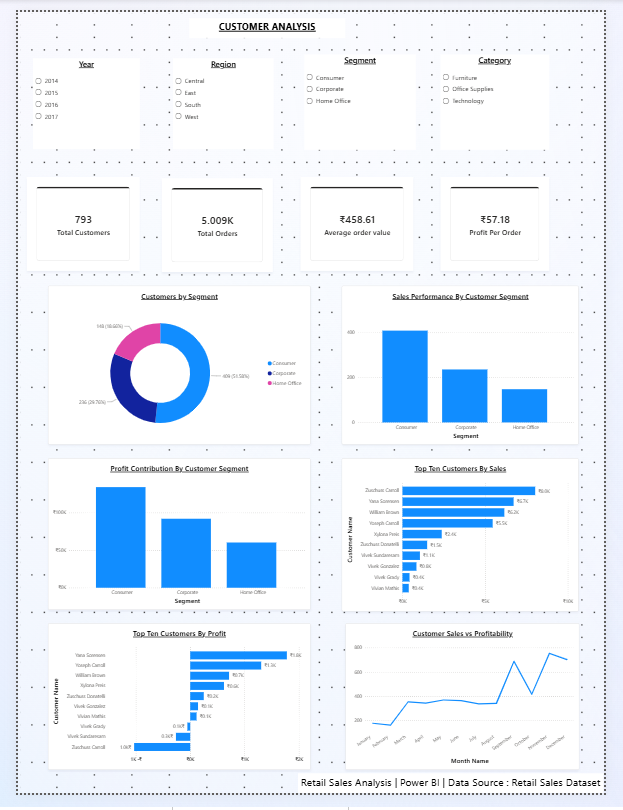

This screenshot's page, from the dashboard's own definition file:
{"tool":"powerbi","page":{"name":"Customer Analysis","canvas":[1500,2000],"ordinal":2},"visuals":[{"type":"textbox","box":[438.9,17.1,399.3,50.1],"z":0},{"type":"cardVisual","fields":{"Data":["Sample - Superstore.Total Customers"]},"box":[21.9,423.4,289.1,240.6],"z":1000},{"type":"cardVisual","fields":{"Data":["Sample - Superstore.Total Orders"]},"box":[369.3,424,284.4,240.6],"z":2000},{"type":"cardVisual","fields":{"Data":["Sample - Superstore.Average order value"]},"box":[721.9,423.4,289.1,240.6],"z":3000},{"type":"cardVisual","fields":{"Data":["Sample - Superstore.Profit Per Order"]},"box":[1082.8,423.4,278.1,240.6],"z":4000},{"type":"donutChart","title":"Customers by Segment","fields":{"Category":["Sample - Superstore.Segment"],"Y":["Sample - Superstore.Total Customers"]},"box":[78.3,701.7,671.7,406.7],"z":5000},{"type":"columnChart","title":"Sales Performance By Customer Segment ","fields":{"Category":["Sample - Superstore.Segment"],"Y":["Sample - Superstore.Total Customers"]},"box":[830,701.7,606.7,406.7],"z":6000},{"type":"columnChart","title":"Profit Contribution By Customer Segment","fields":{"Category":["Sample - Superstore.Segment"],"Y":["Sample - Superstore.Total Profit"]},"box":[78.3,1143.3,671.7,388.3],"z":7000},{"type":"barChart","title":"Top Ten Customers By Sales","fields":{"Category":["Sample - Superstore.Customer Name"],"Y":["Sample - Superstore.Total Sales"]},"box":[830,1142,606,392],"z":8000},{"type":"barChart","title":"Top Ten Customers By Profit ","fields":{"Category":["Sample - Superstore.Customer Name"],"Y":["Sample - Superstore.Total Profit"]},"box":[78.3,1563.3,671.7,375],"z":9000},{"type":"lineChart","title":"Customer Sales vs Profitability","fields":{"Category":["DateTable.Month Name"],"Y":["Sample - Superstore.Total Orders"]},"box":[838.3,1563.3,598.3,375],"z":10000},{"type":"listSlicer","title":"Year","fields":{"Values":["DateTable.year"]},"box":[37.5,118.8,273.4,232.8],"z":11000},{"type":"listSlicer","fields":{"Values":["Sample - Superstore.Region"]},"box":[395.3,118.8,257.8,232.8],"z":12000},{"type":"listSlicer","fields":{"Values":["Sample - Superstore.Segment"]},"box":[732.8,107.8,285.9,243.8],"z":13000},{"type":"listSlicer","fields":{"Values":["Sample - Superstore.Category"]},"box":[1083,108,278,244],"z":14000},{"type":"textbox","box":[718.3,1950,781.7,50],"z":15000}]}

Visuals, with their boxes in screenshot pixels (x1, y1, x2, y2), scaled from the page's 1500x2000 canvas onto the 623x810 screenshot:
textbox: pyautogui.locateOnScreen(182, 7, 348, 27)
cardVisual - Sample - Superstore.Total Customers: pyautogui.locateOnScreen(9, 171, 129, 269)
cardVisual - Sample - Superstore.Total Orders: pyautogui.locateOnScreen(153, 172, 272, 269)
cardVisual - Sample - Superstore.Average order value: pyautogui.locateOnScreen(300, 171, 420, 269)
cardVisual - Sample - Superstore.Profit Per Order: pyautogui.locateOnScreen(450, 171, 565, 269)
"Customers by Segment" donutChart: pyautogui.locateOnScreen(33, 284, 312, 449)
"Sales Performance By Customer Segment " columnChart: pyautogui.locateOnScreen(345, 284, 597, 449)
"Profit Contribution By Customer Segment" columnChart: pyautogui.locateOnScreen(33, 463, 312, 620)
"Top Ten Customers By Sales" barChart: pyautogui.locateOnScreen(345, 463, 596, 621)
"Top Ten Customers By Profit " barChart: pyautogui.locateOnScreen(33, 633, 312, 785)
"Customer Sales vs Profitability" lineChart: pyautogui.locateOnScreen(348, 633, 597, 785)
"Year" listSlicer: pyautogui.locateOnScreen(16, 48, 129, 142)
listSlicer - Sample - Superstore.Region: pyautogui.locateOnScreen(164, 48, 271, 142)
listSlicer - Sample - Superstore.Segment: pyautogui.locateOnScreen(304, 44, 423, 142)
listSlicer - Sample - Superstore.Category: pyautogui.locateOnScreen(450, 44, 565, 143)
textbox: pyautogui.locateOnScreen(298, 790, 622, 809)
